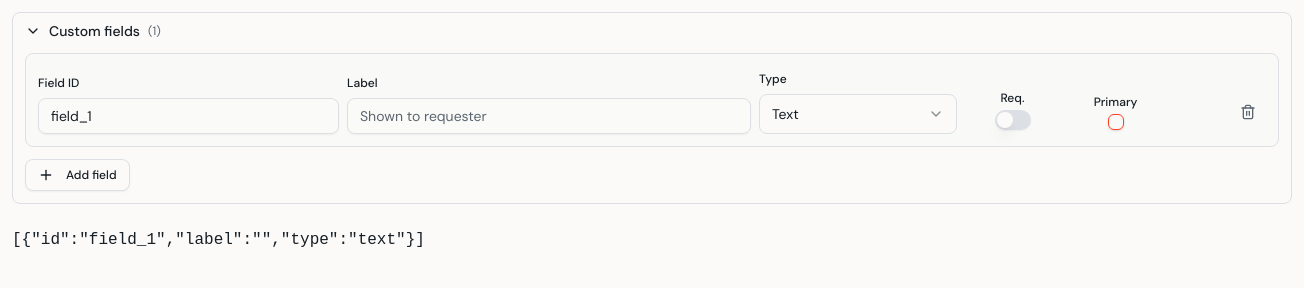
it: RequiredFieldsEditor › shows empty-id error when id is blank
Clear the field with test id "rfe-row-0-id": (188, 116) [38, 98, 339, 134]
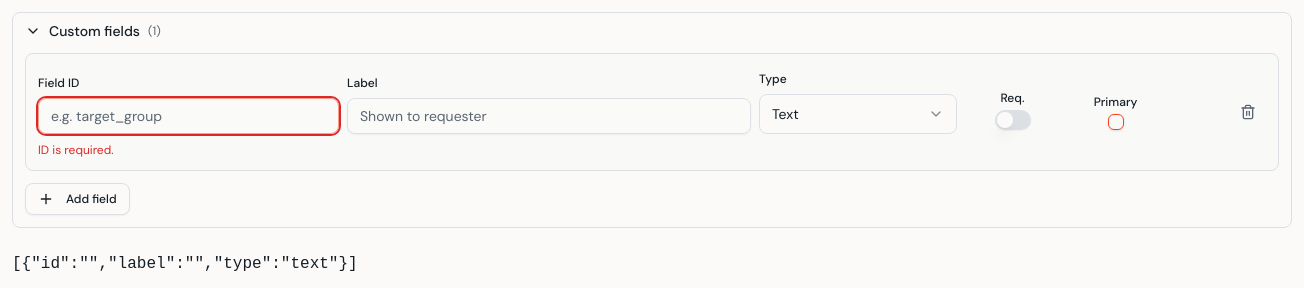
Now the text with test id "rfe-row-0-id-error" shows "required", box [38, 142, 114, 158]
